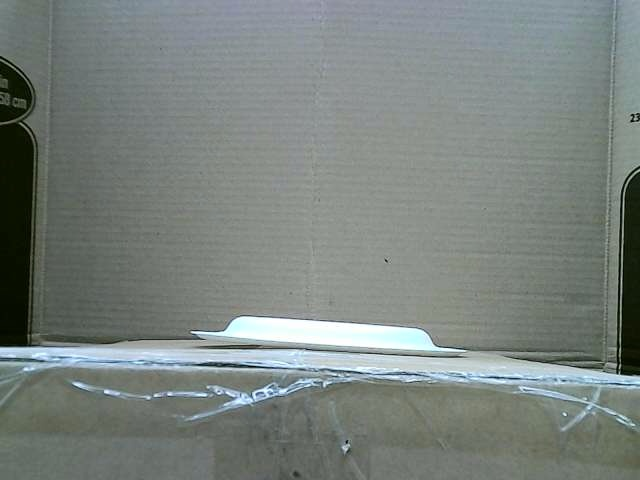Plate: (190, 316, 465, 356)
